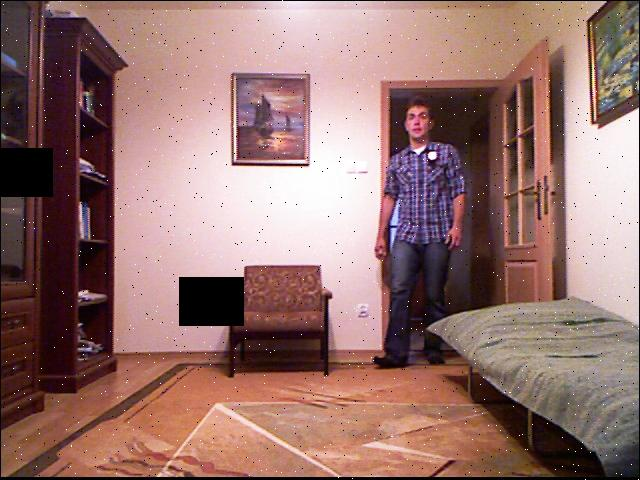walking: (376, 93, 472, 381)
